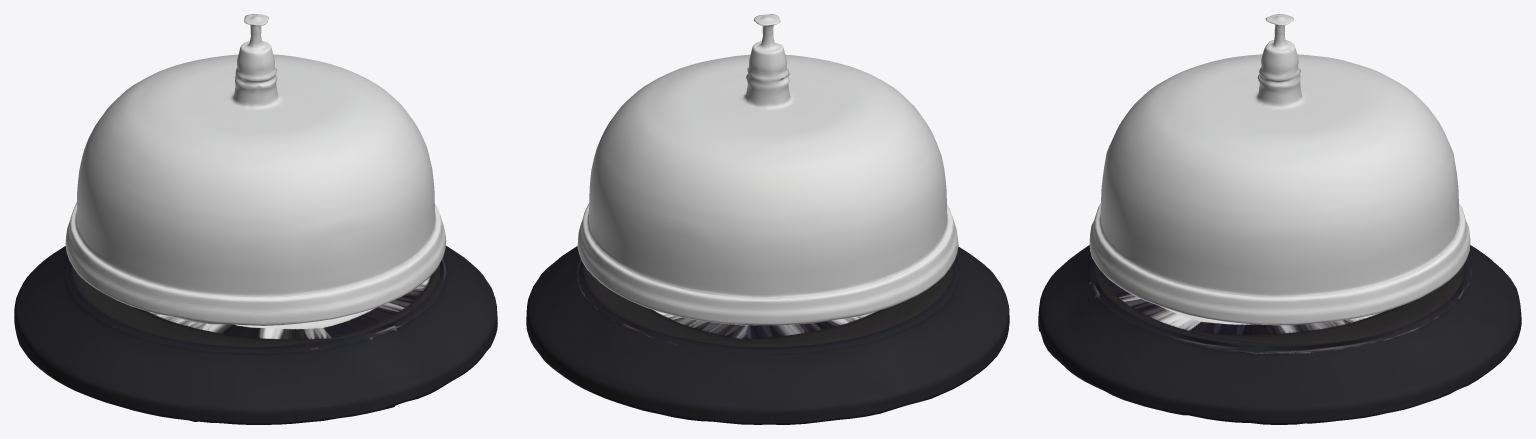
3 renders of one model, left to right at view 1: azimuth 30°, elevation 25°; view 2: azimuth 150°, elevation 25°; view 3: azimuth 270°, elevation 25°, orthographic.
Visible parts, largest first — view 1: model; view 2: model; view 3: model.
Boxes of the visible parts, x1,y1,x2,y2 form: model: [14, 14, 497, 424]; model: [526, 14, 1009, 424]; model: [1038, 14, 1521, 424].
Bounding box in the file's own units: 1.9 × 1.32 × 1.89.
Materials: 1 (1 with a texture image).
